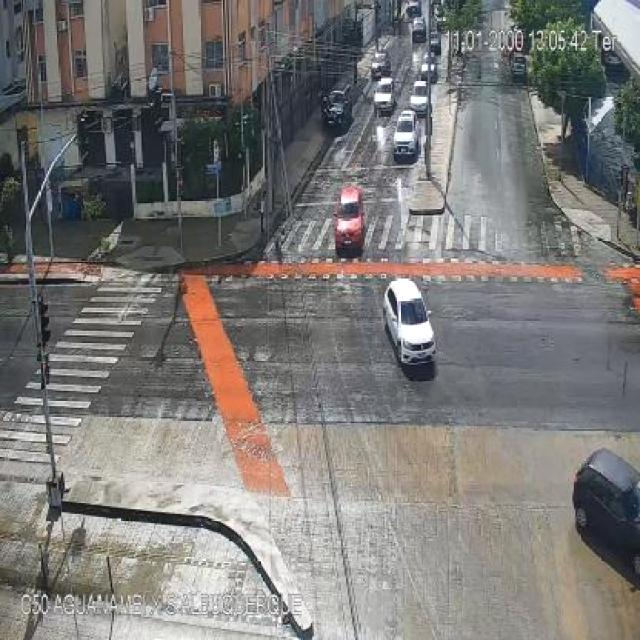Car: (562, 420, 640, 565), (377, 275, 438, 368), (334, 181, 362, 255), (389, 110, 418, 160), (322, 90, 347, 134), (411, 50, 440, 80), (406, 10, 430, 46), (408, 78, 431, 115), (372, 75, 393, 114), (368, 47, 392, 78), (423, 30, 447, 57)
